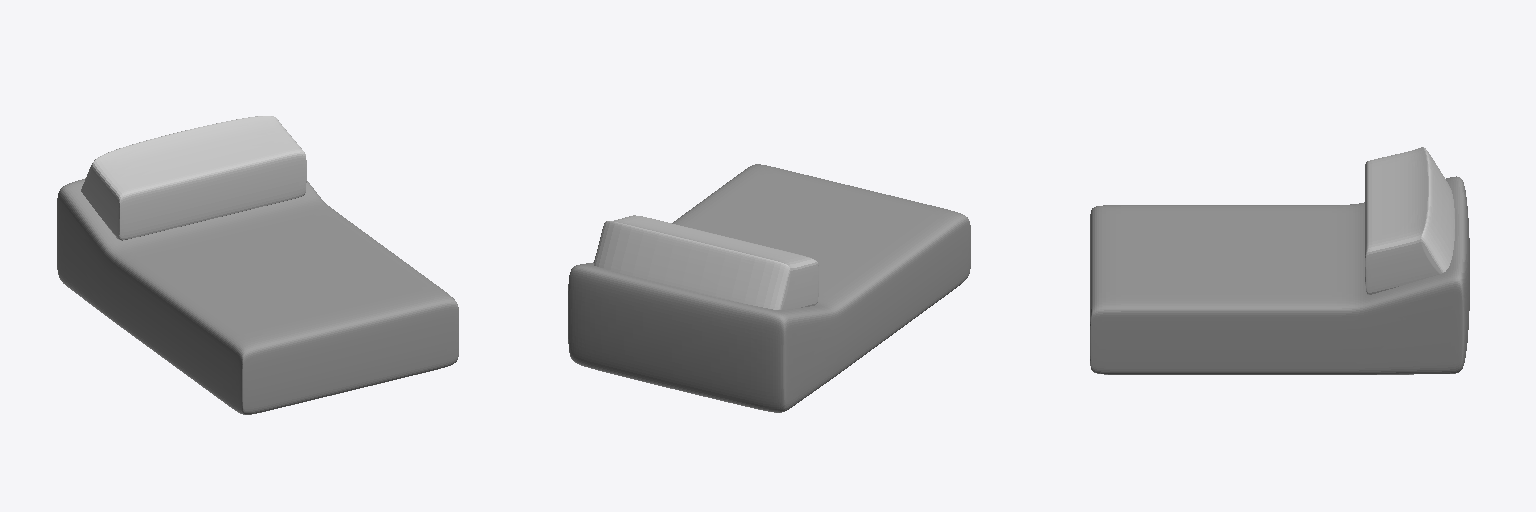
Rendered from case.obj.
3 renders of one model, left to right at view 1: azimuth 30°, elevation 25°; view 2: azimuth 150°, elevation 25°; view 3: azimuth 270°, elevation 25°, orthographic.
Parts seen in each view (by area): view 1: Cube, Cube.001; view 2: Cube, Cube.001; view 3: Cube, Cube.001.
Part boxes in pixels (bbox=[...]): Cube: bbox=[57, 178, 458, 414]; Cube.001: bbox=[81, 116, 306, 240]; Cube: bbox=[568, 164, 970, 412]; Cube.001: bbox=[594, 215, 818, 309]; Cube: bbox=[1090, 176, 1469, 374]; Cube.001: bbox=[1365, 147, 1454, 294].
Bounding box in the file's own units: 3.69 × 2.26 × 5.58.